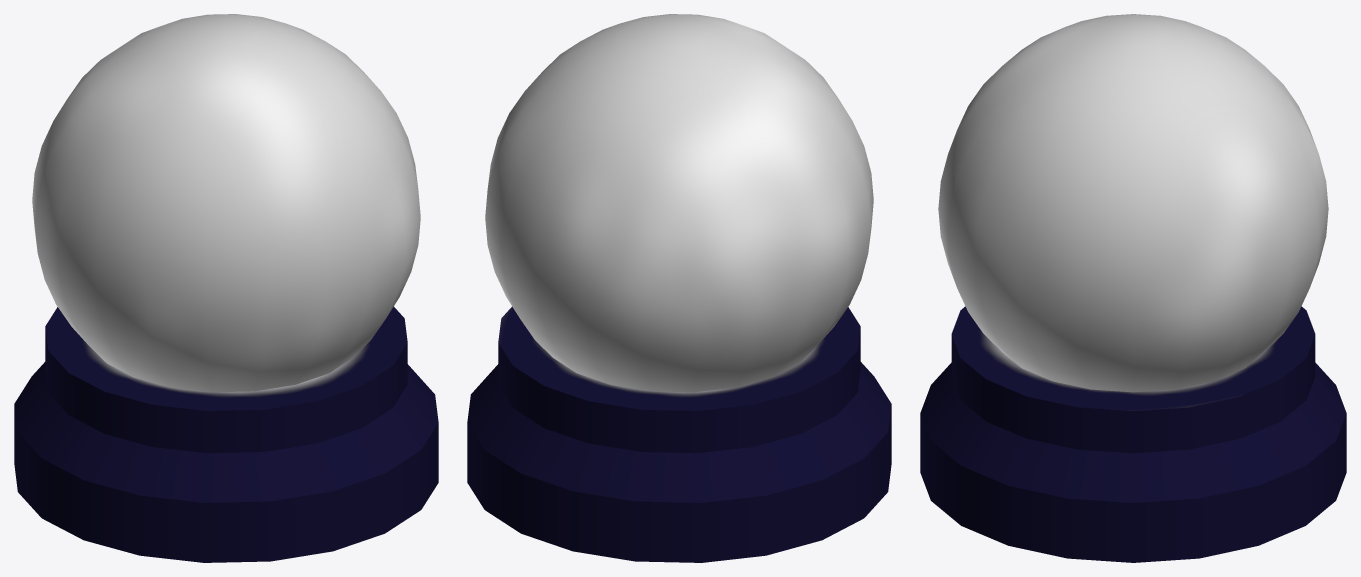
Rendered from Snowglobe Model - Joey M.fbx.
The picture shows the model from 3 angles, left to right: view 1: azimuth 30°, elevation 25°; view 2: azimuth 150°, elevation 25°; view 3: azimuth 270°, elevation 25°; orthographic projection.
Visible parts, largest first — view 1: Snowman; view 2: Snowman; view 3: Snowman.
Part boxes in pixels (box(x1,y1,x2,y2)): Snowman: box(14, 14, 438, 562); Snowman: box(467, 14, 891, 562); Snowman: box(920, 14, 1346, 562).
Size of the model in its own units: 2.83 by 3.23 by 2.83.
